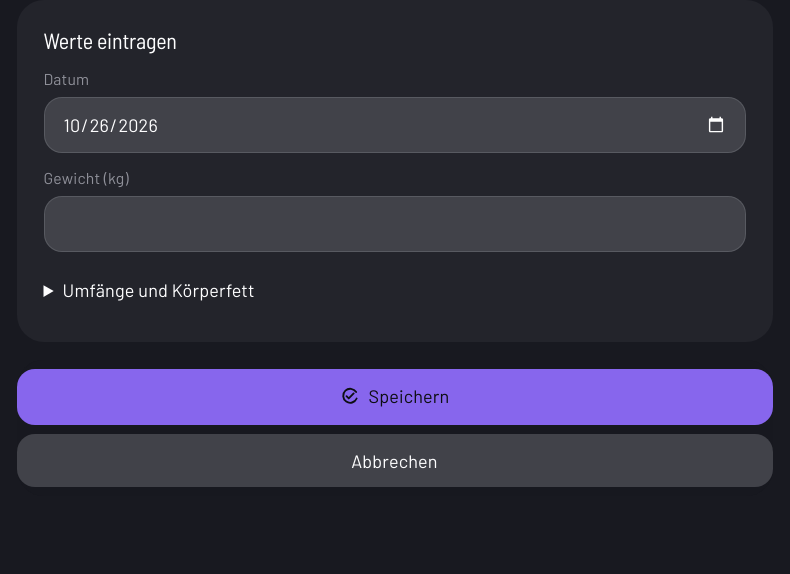
BodyEntryForm › refuses an entry in which nothing was measured
Click the button "Speichern": (394, 397) [16,369,772,425]
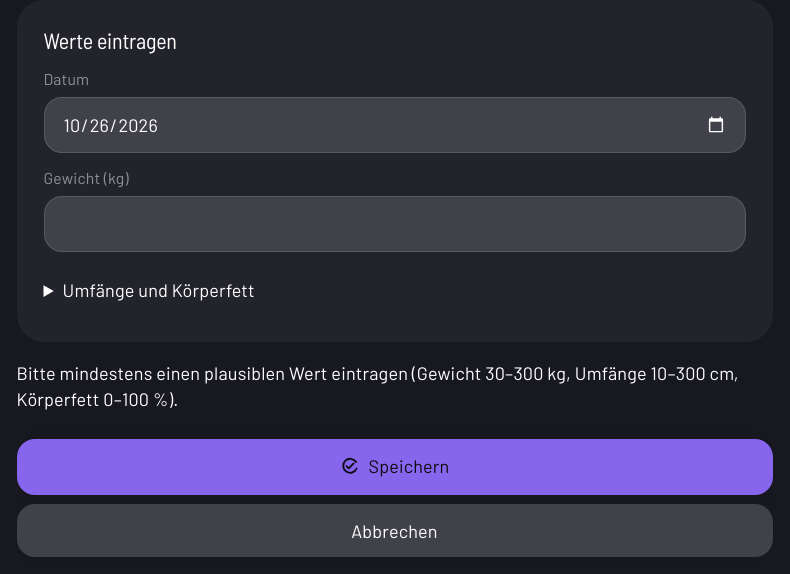
Expected: the message is shown, [16,360,772,412]
